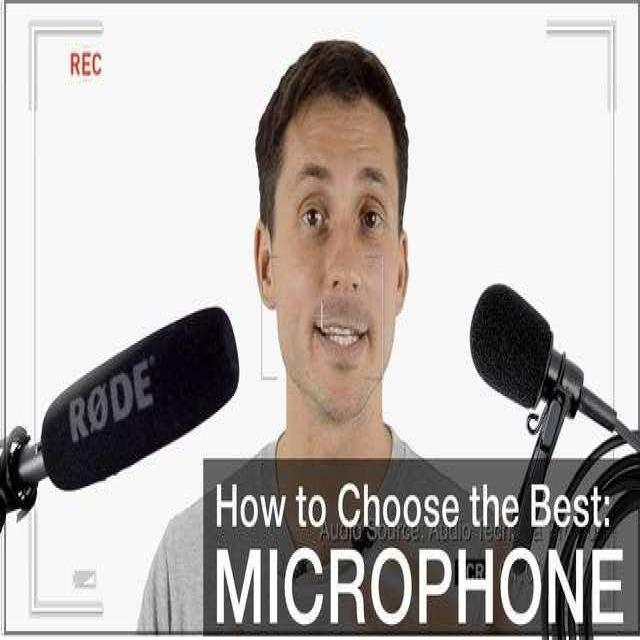microphone: (4, 310, 240, 552), (468, 286, 640, 470)
